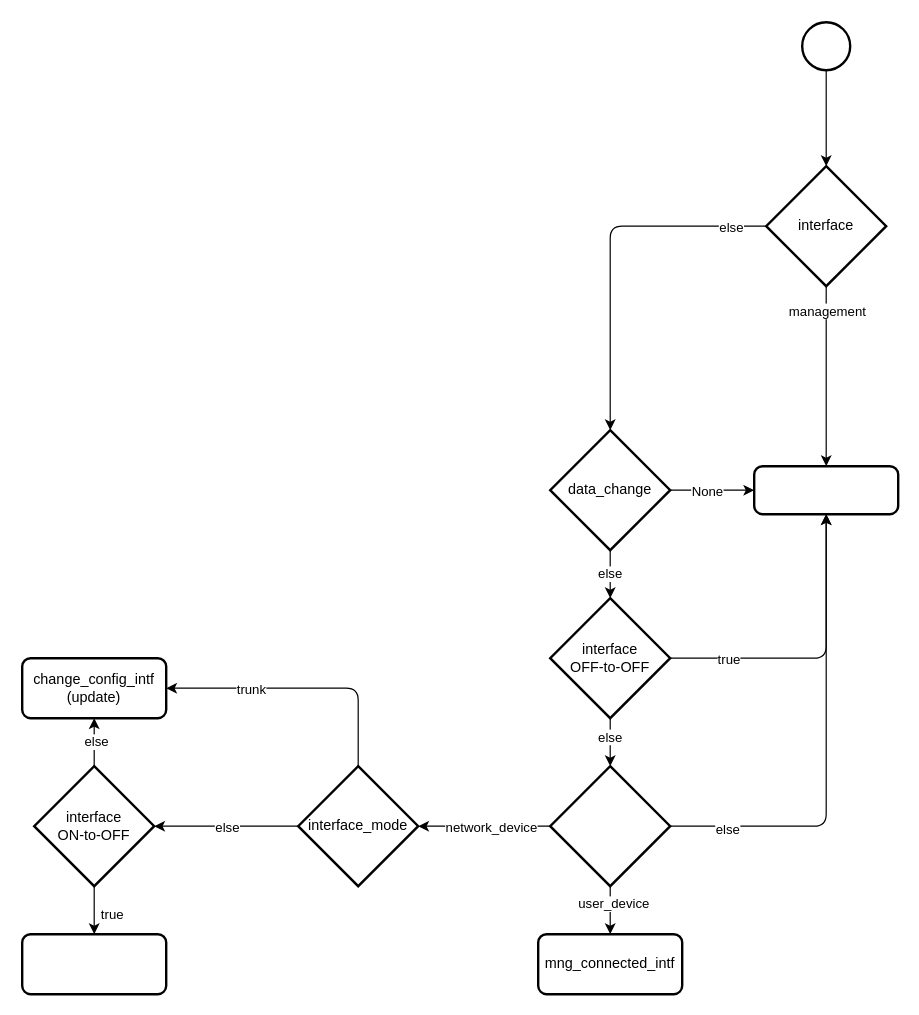
The diagram is 919 pixels wide and 1015 high, and some of its shapes have lost their labels. The box of each missing label's shape, as (x1, y1, x2, y2) in pixels:
change_config_intf (shutdown): (20, 932, 167, 995)
device: (548, 764, 671, 887)
journal_fill: (752, 464, 899, 515)
